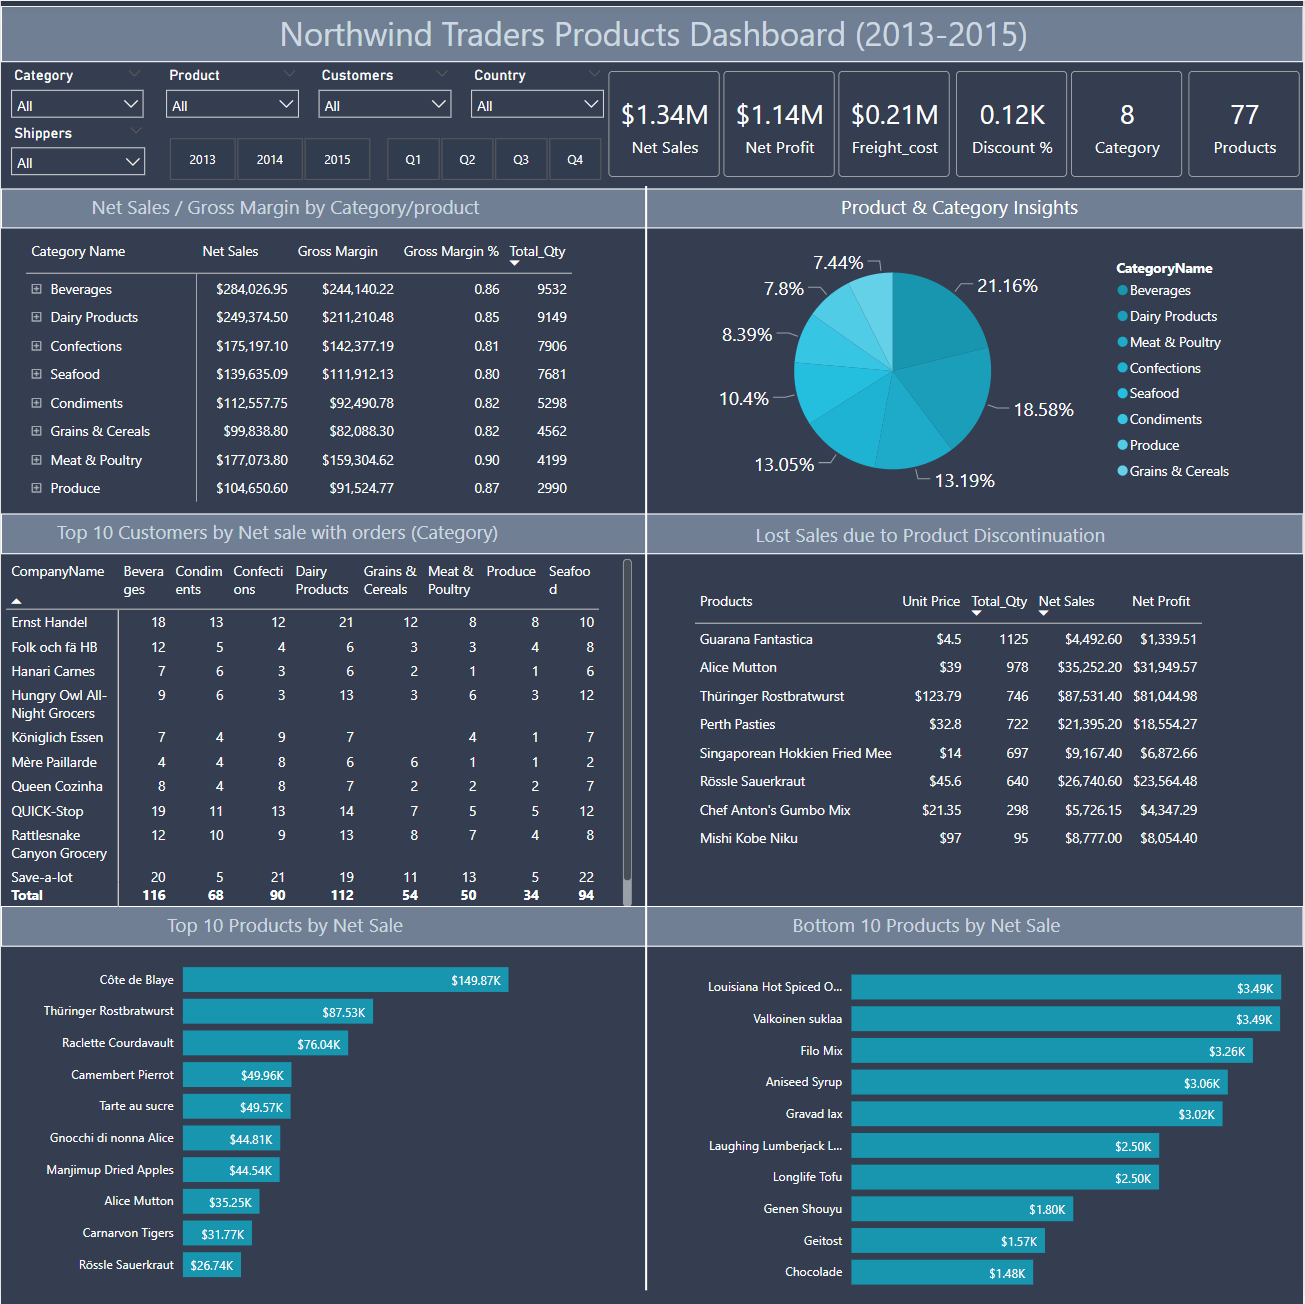

This screenshot's page, from the dashboard's own definition file:
{"tool":"powerbi","page":{"name":"Products Performance","canvas":[1280,1280],"ordinal":2},"visuals":[{"type":"slicer","fields":{"Values":["dim_date.Year"]},"box":[139.7,128.3,246.7,55],"z":0},{"type":"slicer","fields":{"Values":["dim_categories.CategoryName"]},"box":[0.8,60,150,70],"z":1000},{"type":"slicer","fields":{"Values":["dim_customers.CompanyName"]},"box":[301.5,60,150.3,70.2],"z":2000},{"type":"slicer","fields":{"Values":["dim_customers.Country"]},"box":[451.8,60,150.3,70.2],"z":3000},{"type":"slicer","fields":{"Values":["dim_shippers.CompanyName"]},"box":[0,116.7,151.7,70],"z":4000},{"type":"slicer","fields":{"Values":["dim_products.ProductName"]},"box":[151.1,60,150.3,70.2],"z":5000},{"type":"slicer","fields":{"Values":["dim_date.Q"]},"box":[354.7,128.3,260,55],"z":6000},{"type":"pivotTable","fields":{"Rows":["dim_categories.CategoryName","dim_products.ProductName"],"Values":["My Measures.Net Sales","My Measures.Gross Margin","My Measures.Gross Margin %","My Measures.Total_Qty"]},"box":[20,225,570,277.5],"z":7000},{"type":"textbox","box":[12,503,524,36],"z":8000},{"type":"textbox","box":[16,890,524,44],"z":9000},{"type":"textbox","box":[20,184,520,42],"z":10000},{"type":"textbox","box":[655,505,525,40],"z":11000},{"type":"textbox","box":[622,890,586,40],"z":12000},{"type":"card","fields":{"Values":["My Measures.Net Sales"]},"box":[596,70,109,104],"z":14000},{"type":"card","fields":{"Values":["My Measures.Net Profit"]},"box":[710,70,109,104],"z":15000},{"type":"card","fields":{"Values":["My Measures.Freight_cost"]},"box":[824,70,109,104],"z":16000},{"type":"card","fields":{"Values":["My Measures.Discount %"]},"box":[938,70,109,104],"z":17000},{"type":"shape","box":[0,183.2,1280,39.3],"z":18000},{"type":"shape","box":[0,5.4,1280,54.4],"z":19000},{"type":"shape","box":[0,502.5,1280,40],"z":20000},{"type":"shape","box":[0,890,1280,40],"z":21000},{"type":"tableEx","fields":{"Values":["dim_products.ProductName","dim_products.UnitPrice","My Measures.Total_Qty","My Measures.Net Sales","My Measures.Net Profit"]},"box":[675,570,515,288.3],"z":22000},{"type":"barChart","fields":{"Category":["dim_products.ProductName","dim_date.Year"],"Y":["My Measures.Net Sales"]},"box":[24,924,586,348],"z":23000},{"type":"barChart","fields":{"Category":["dim_products.ProductName"],"Y":["My Measures.Net Sales"]},"box":[675,931.7,588.3,348.3],"z":24000},{"type":"card","fields":{"Values":["My Measures.Total_Category"]},"box":[1052,70,109,104],"z":25000},{"type":"card","fields":{"Values":["My Measures.Total_Products"]},"box":[1166,70,109,104],"z":26000},{"type":"pieChart","fields":{"Category":["dim_categories.CategoryName"],"Y":["My Measures.Net Sales"]},"box":[650,230,570,265],"z":27000},{"type":"textbox","box":[642.5,184,520,40],"z":28000},{"type":"shape","box":[485,182.5,300,1085],"z":29000},{"type":"pivotTable","fields":{"Rows":["dim_customers.CompanyName"],"Columns":["dim_categories.CategoryName"],"Values":["My Measures.Categorycount"]},"box":[0,542.5,625,352.5],"z":30000},{"type":"card","fields":{"Values":["My Measures.Products title"]},"box":[5.4,5.4,1269.1,54.4],"z":30001}]}

Visuals, with their boxes in screenshot pixels (x1, y1, x2, y2), scaled from the page's 1280x1280 canvas onto the 1305x1304 screenshot:
slicer - dim_date.Year: {"x1": 142, "y1": 131, "x2": 394, "y2": 187}
slicer - dim_categories.CategoryName: {"x1": 1, "y1": 61, "x2": 154, "y2": 132}
slicer - dim_customers.CompanyName: {"x1": 307, "y1": 61, "x2": 461, "y2": 133}
slicer - dim_customers.Country: {"x1": 461, "y1": 61, "x2": 614, "y2": 133}
slicer - dim_shippers.CompanyName: {"x1": 0, "y1": 119, "x2": 155, "y2": 190}
slicer - dim_products.ProductName: {"x1": 154, "y1": 61, "x2": 307, "y2": 133}
slicer - dim_date.Q: {"x1": 362, "y1": 131, "x2": 627, "y2": 187}
pivotTable - dim_categories.CategoryName x dim_products.ProductName: {"x1": 20, "y1": 229, "x2": 602, "y2": 512}
textbox: {"x1": 12, "y1": 512, "x2": 546, "y2": 549}
textbox: {"x1": 16, "y1": 907, "x2": 551, "y2": 952}
textbox: {"x1": 20, "y1": 187, "x2": 551, "y2": 230}
textbox: {"x1": 668, "y1": 514, "x2": 1203, "y2": 555}
textbox: {"x1": 634, "y1": 907, "x2": 1232, "y2": 947}
card - My Measures.Net Sales: {"x1": 608, "y1": 71, "x2": 719, "y2": 177}
card - My Measures.Net Profit: {"x1": 724, "y1": 71, "x2": 835, "y2": 177}
card - My Measures.Freight_cost: {"x1": 840, "y1": 71, "x2": 951, "y2": 177}
card - My Measures.Discount %: {"x1": 956, "y1": 71, "x2": 1067, "y2": 177}
shape: {"x1": 0, "y1": 187, "x2": 1304, "y2": 227}
shape: {"x1": 0, "y1": 6, "x2": 1304, "y2": 61}
shape: {"x1": 0, "y1": 512, "x2": 1304, "y2": 553}
shape: {"x1": 0, "y1": 907, "x2": 1304, "y2": 947}
tableEx - dim_products.ProductName x dim_products.UnitPrice: {"x1": 688, "y1": 581, "x2": 1213, "y2": 874}
barChart - dim_products.ProductName x dim_date.Year: {"x1": 24, "y1": 941, "x2": 622, "y2": 1296}
barChart - dim_products.ProductName x My Measures.Net Sales: {"x1": 688, "y1": 949, "x2": 1288, "y2": 1303}
card - My Measures.Total_Category: {"x1": 1073, "y1": 71, "x2": 1184, "y2": 177}
card - My Measures.Total_Products: {"x1": 1189, "y1": 71, "x2": 1300, "y2": 177}
pieChart - dim_categories.CategoryName x My Measures.Net Sales: {"x1": 663, "y1": 234, "x2": 1244, "y2": 504}
textbox: {"x1": 655, "y1": 187, "x2": 1185, "y2": 228}
shape: {"x1": 494, "y1": 186, "x2": 800, "y2": 1291}
pivotTable - dim_customers.CompanyName x dim_categories.CategoryName: {"x1": 0, "y1": 553, "x2": 637, "y2": 912}
card - My Measures.Products title: {"x1": 6, "y1": 6, "x2": 1299, "y2": 61}
